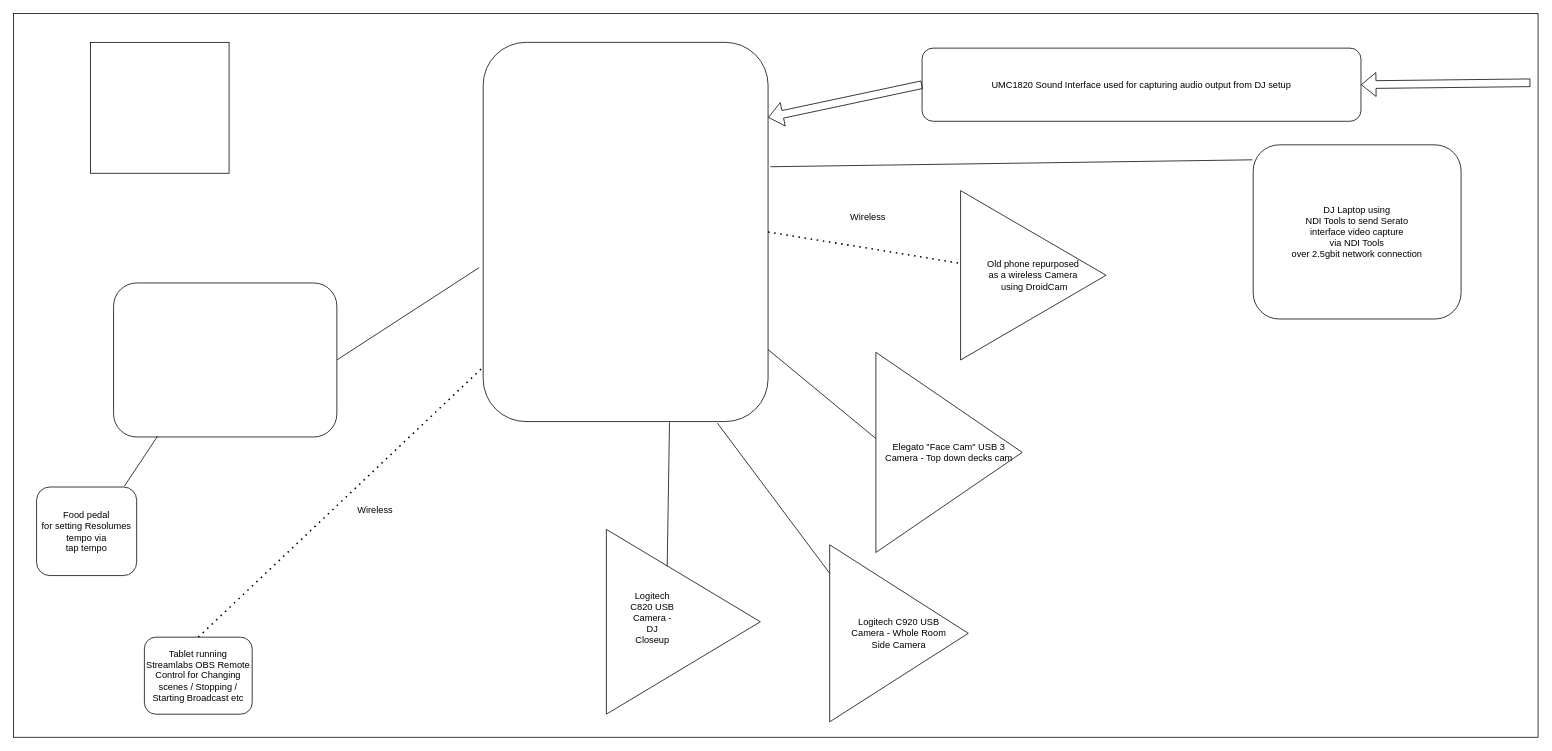
Some shapes in this 1552 by 751 pixel diagram are drawn without their labels. Here are the shapes that lost their labels. From the top down, the box of each, then its label:
(90, 42, 229, 173): Resolume and Streamlabs OBS Broadcast Setup
(482, 42, 768, 422): Broadcast PC Running Resolume and Streamlabs OBS
(113, 282, 337, 437): Vestax VCM600 Controller Purposed to control Resolume as a USB MIDI controller
